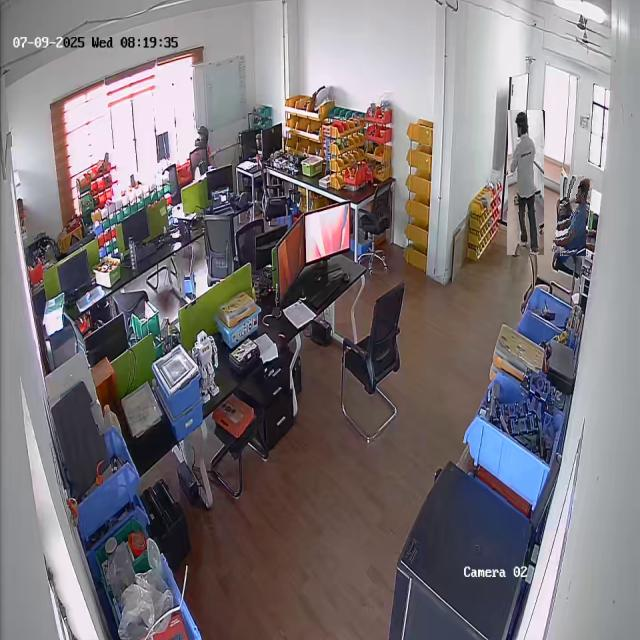person: (508, 110, 544, 255), (556, 175, 590, 257)
